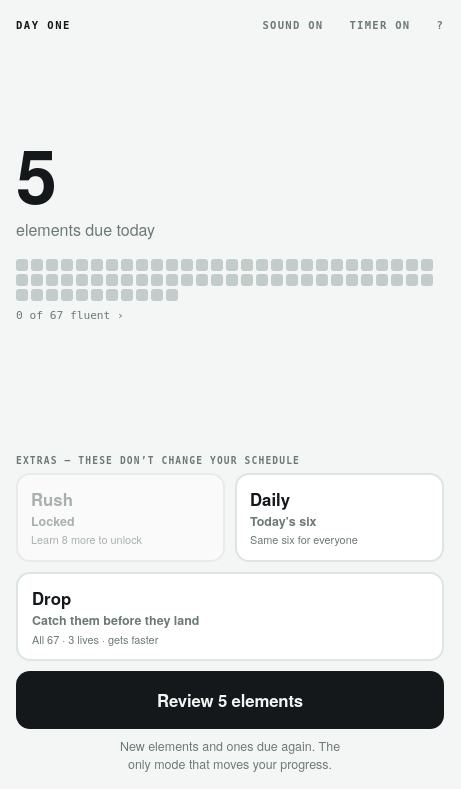
Test: Drop › opens with three lives and a falling element
Click the button "Drop" at (52, 598), box [16, 572, 444, 661]
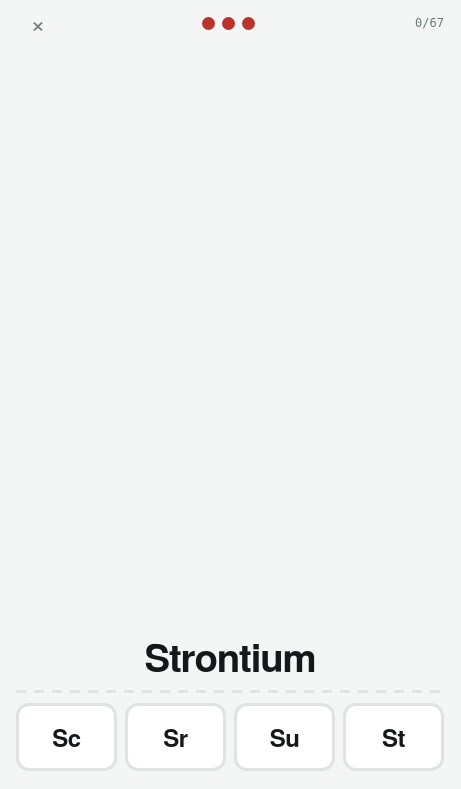
Check: the element named "3 lives left" is shown, box [202, 16, 254, 30]
Check: the text "0/67" is shown, box [415, 16, 444, 30]
